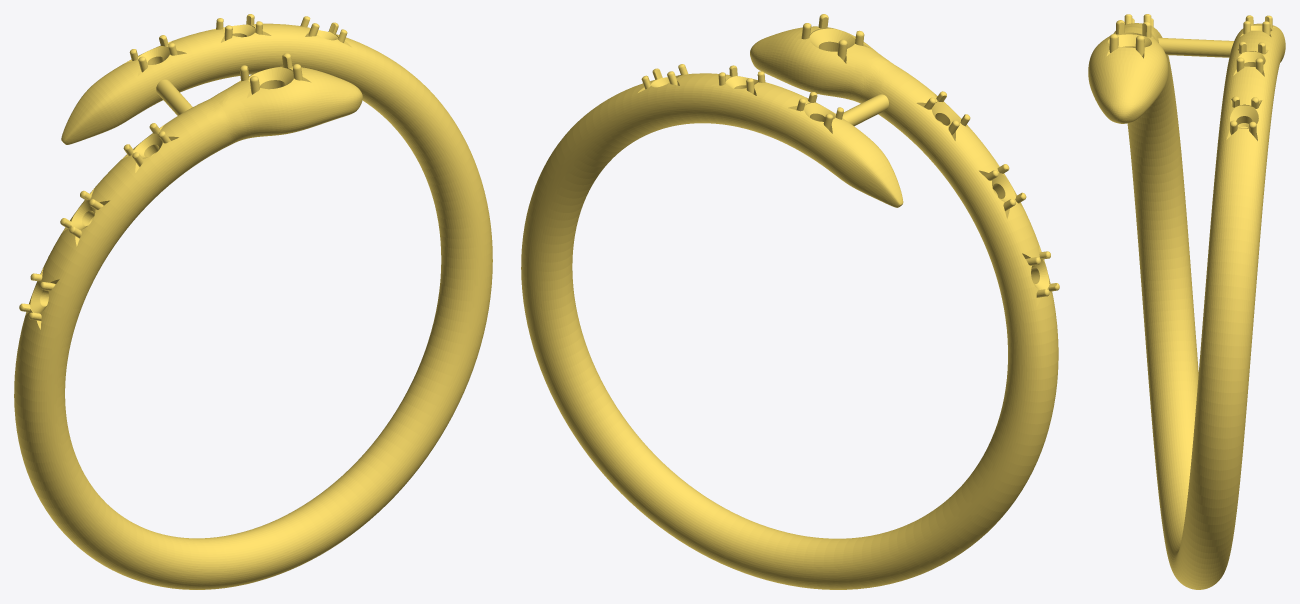
Rendered from snake-ring.fbx.
The picture shows the model from 3 angles, left to right: view 1: azimuth 30°, elevation 25°; view 2: azimuth 150°, elevation 25°; view 3: azimuth 270°, elevation 25°; orthographic projection. The views are drawn at different scales.
Parts seen in each view (by area): view 1: Free Snake ring - 18,0; view 2: Free Snake ring - 18,0; view 3: Free Snake ring - 18,0.
Part boxes in pixels (x1,y1,x2,y2): Free Snake ring - 18,0: (14, 14, 492, 589); Free Snake ring - 18,0: (521, 14, 1059, 589); Free Snake ring - 18,0: (1088, 14, 1285, 589).
Bounding box in the file's own units: 2.19 × 2.26 × 0.7612.
